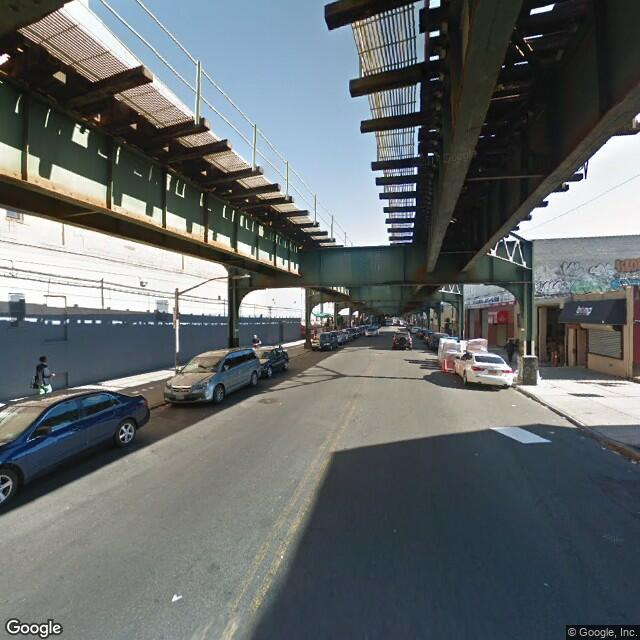litter: (168, 592, 181, 600), (628, 456, 636, 466), (511, 403, 518, 408)
